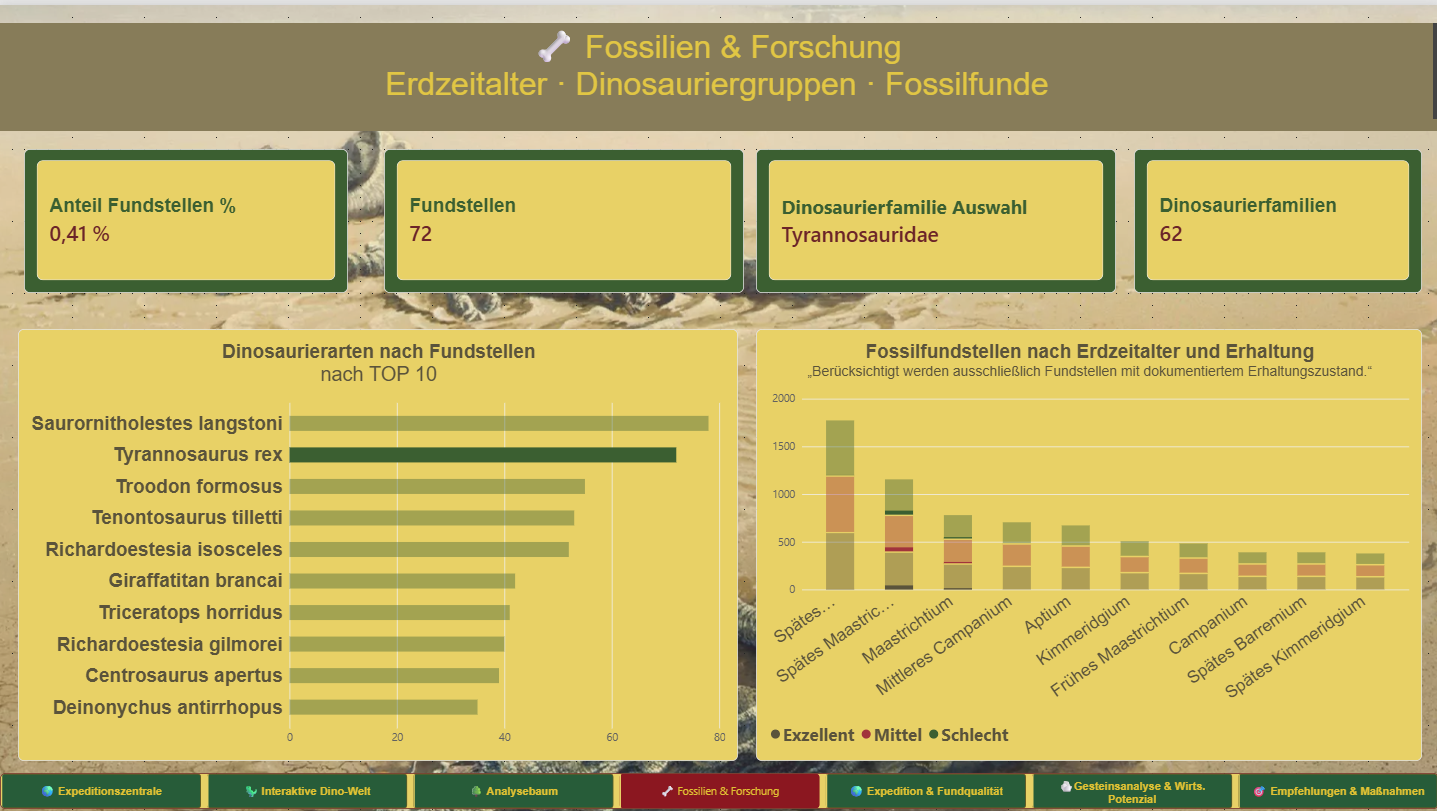

This screenshot's page, from the dashboard's own definition file:
{"tool":"powerbi","page":{"name":"🦴 Fossilien & Forschung","canvas":[1920,1080],"ordinal":3},"visuals":[{"type":"textbox","box":[0,24,1920,144],"z":0},{"type":"barChart","fields":{"Category":["Dinosaurier.Wissenschaftlicher_Name"],"Y":["_Measures.Ø Fundstellen je zugeordnetem Dinosaurier"]},"box":[24,432,960,576],"z":1000},{"type":"cardVisual","title":"Dinosaurier-Vielfalt interaktiv analysieren","fields":{"Data":["_Measures.Dinosaurierfamilien gesamt Anzeige"]},"box":[1512,192,384,192],"z":2000},{"type":"cardVisual","fields":{"Data":["_Measures.Fundstellen gesamt"]},"box":[512,192,480,192],"z":3000},{"type":"columnChart","fields":{"Category":["Fundstellen.Erdzeitalter"],"Series":["Fact_ML_Prognosen.Erhaltungszustand_DE"],"Y":["_Measures.Fundstellen mit bekanntem Erdzeitalter"]},"box":[1008,432,888,576],"z":4000},{"type":"pageNavigator","box":[0,1024,1920,48],"z":5000},{"type":"cardVisual","fields":{"Data":["_Measures.Anteil Dinosaurier an Fundstellen %"]},"box":[32,192,432,192],"z":6000},{"type":"cardVisual","fields":{"Data":["_Measures.Dinosaurierfamilie Auswahl"]},"box":[1008,192,480,192],"z":7000}]}

Visuals, with their boxes on the page's 1920x1080 design canvas (x1, y1, x2, y2). These are canvas units, not pixel positions in the 1437x811 screenshot, which may show the page scaled, cropped or inside an application window:
textbox: [left=0, top=24, right=1920, bottom=168]
barChart - Dinosaurier.Wissenschaftlicher_Name x _Measures.Ø Fundstellen je zugeordnetem Dinosaurier: [left=24, top=432, right=984, bottom=1008]
"Dinosaurier-Vielfalt interaktiv analysieren" cardVisual: [left=1512, top=192, right=1896, bottom=384]
cardVisual - _Measures.Fundstellen gesamt: [left=512, top=192, right=992, bottom=384]
columnChart - Fundstellen.Erdzeitalter x Fact_ML_Prognosen.Erhaltungszustand_DE: [left=1008, top=432, right=1896, bottom=1008]
pageNavigator: [left=0, top=1024, right=1920, bottom=1072]
cardVisual - _Measures.Anteil Dinosaurier an Fundstellen %: [left=32, top=192, right=464, bottom=384]
cardVisual - _Measures.Dinosaurierfamilie Auswahl: [left=1008, top=192, right=1488, bottom=384]
